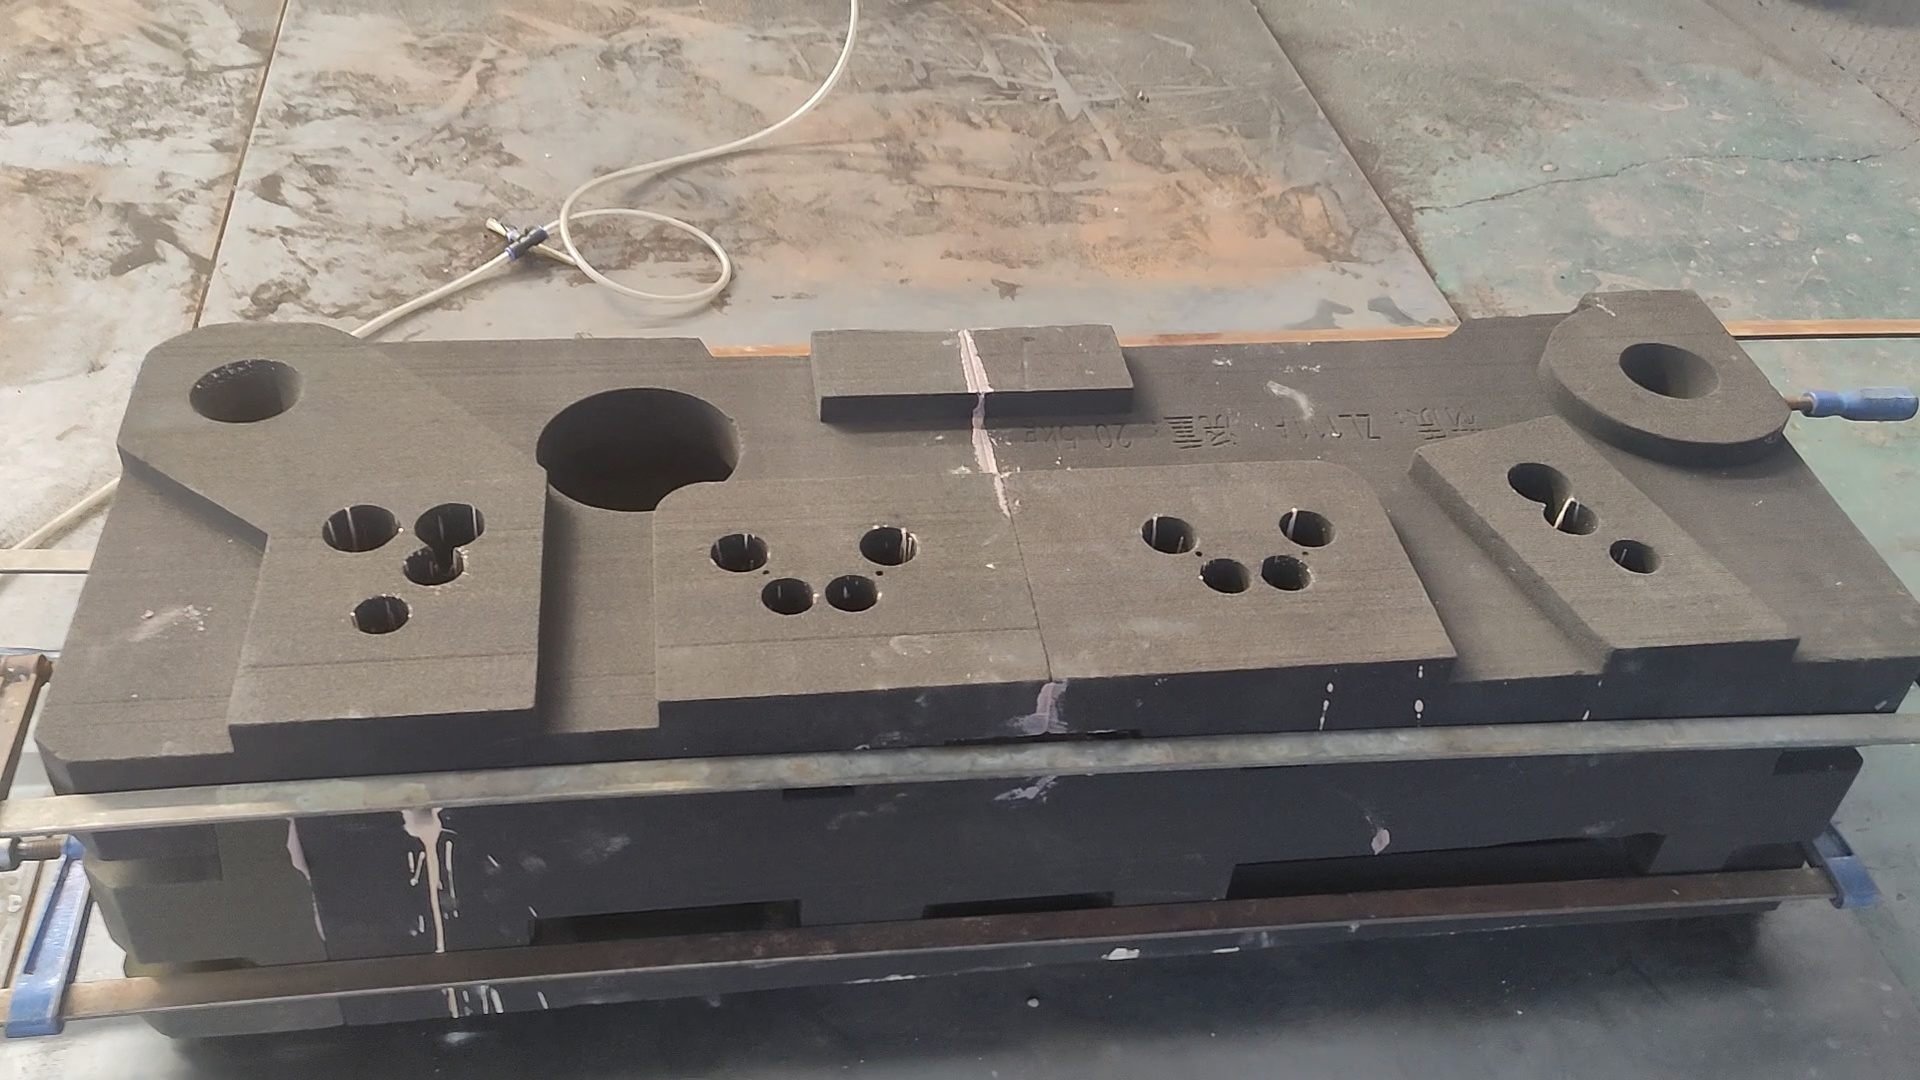pouring hole: (187, 357, 303, 426), (1619, 342, 1721, 401)
